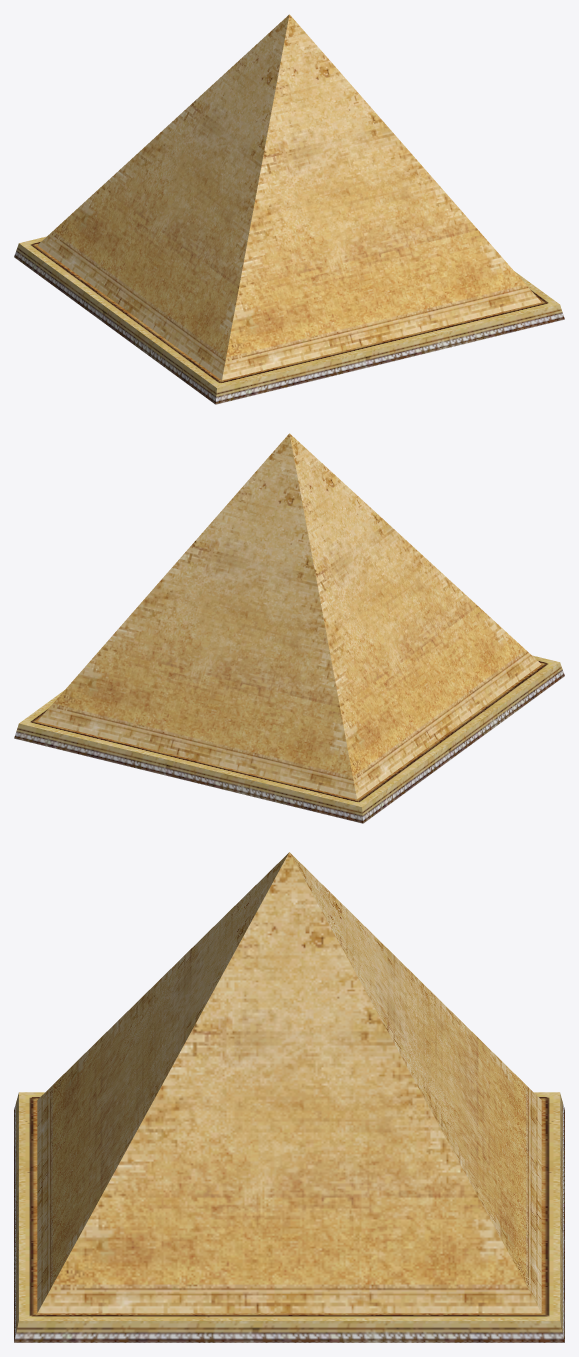
File: idle.glb
3 views of the same model, one above another, from view 1: azimuth 30°, elevation 25°; view 2: azimuth 150°, elevation 25°; view 3: azimuth 270°, elevation 25° (orthographic). The views are drawn at different scales.
Parts seen in each view (by area): view 1: MeshRoot; view 2: MeshRoot; view 3: MeshRoot.
Part boxes in pixels (x1,y1,x2,y2): MeshRoot: (14,14,564,404); MeshRoot: (14,433,564,823); MeshRoot: (14,852,564,1342).
Size of the model in its own units: 14 by 10.5 by 14.
Materials: 3 (3 with a texture image).
